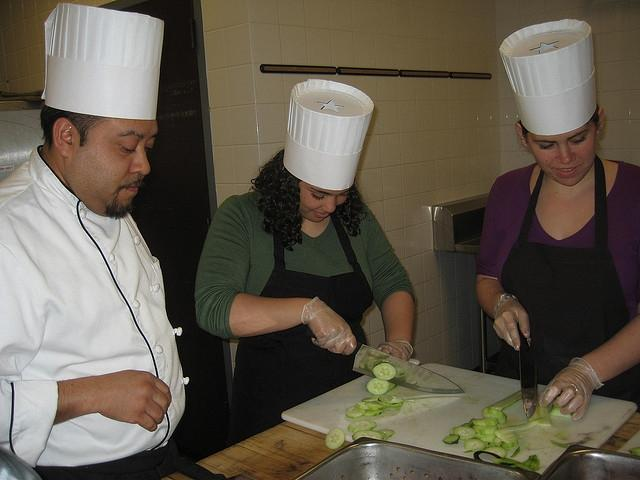cucumber: (494, 416, 546, 444), (527, 395, 552, 427), (367, 377, 398, 396), (324, 428, 346, 450), (372, 362, 398, 380), (482, 408, 506, 424), (550, 404, 575, 418), (348, 420, 377, 432), (352, 430, 383, 441), (453, 426, 476, 440), (464, 438, 486, 452), (482, 446, 507, 458), (473, 425, 498, 435), (346, 406, 366, 418), (354, 402, 382, 410), (474, 433, 496, 443), (472, 418, 499, 426), (378, 396, 403, 404), (442, 434, 460, 444), (378, 428, 394, 438), (364, 402, 388, 408), (364, 410, 384, 417), (377, 401, 400, 407), (362, 396, 379, 402), (629, 446, 640, 454), (484, 442, 494, 448)
